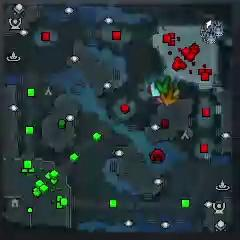x1: (156, 96, 163, 106)
x2: (171, 88, 180, 100)
x3: (150, 80, 162, 97)
x4: (155, 76, 171, 94)
x5: (162, 86, 179, 107)
